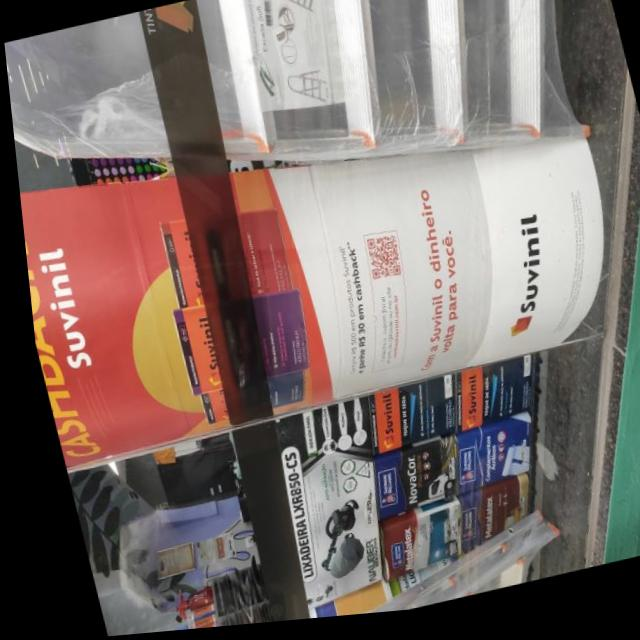qrcode: (359, 240, 399, 287)
